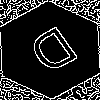D: (25, 25, 87, 83)
